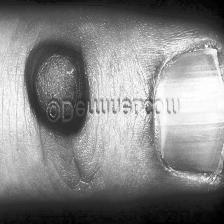Toxin: (28, 48, 82, 104), (39, 118, 83, 139)
